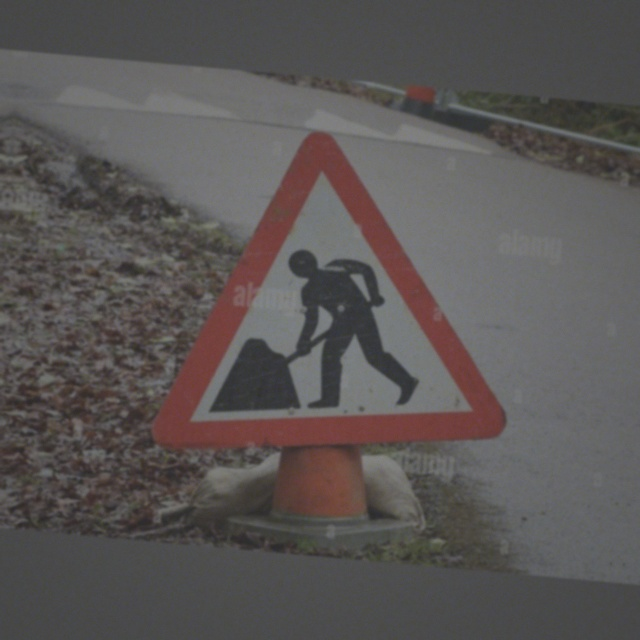Men_at_Work: (154, 124, 543, 470)
